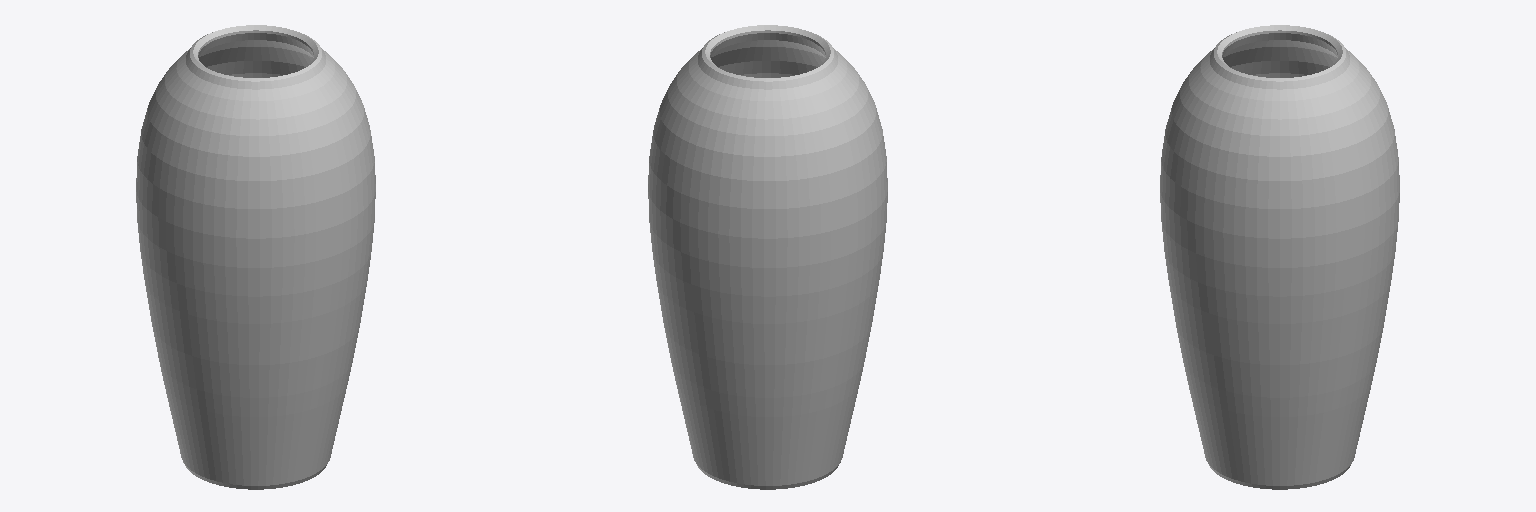
The model's file is Vase.obj.
3 renders of one model, left to right at view 1: azimuth 30°, elevation 25°; view 2: azimuth 150°, elevation 25°; view 3: azimuth 270°, elevation 25°, orthographic.
Parts seen in each view (by area): view 1: C_vase_low; view 2: C_vase_low; view 3: C_vase_low.
Part boxes in pixels (left/top/right/bottom): C_vase_low: left=136, top=25, right=375, bottom=489; C_vase_low: left=648, top=25, right=887, bottom=489; C_vase_low: left=1160, top=25, right=1399, bottom=489.
Size of the model in its own units: 919 by 1725 by 919.